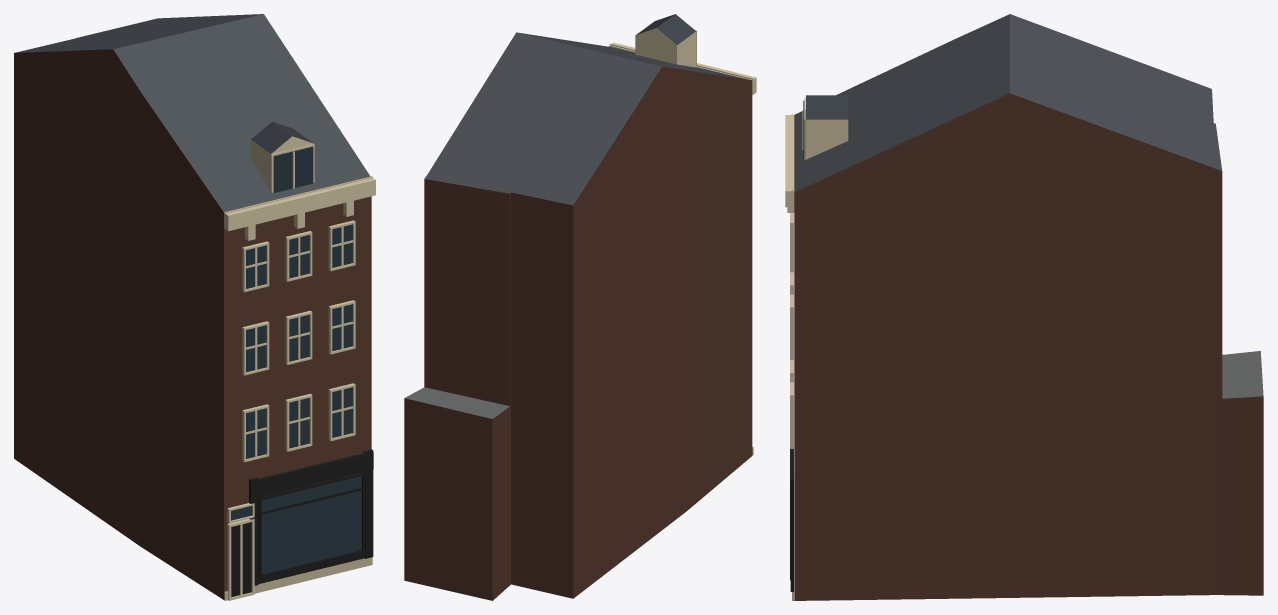
The model's file is recipe-bilder-154127.glb.
3 views of the same model, side by side, from view 1: azimuth 30°, elevation 25°; view 2: azimuth 150°, elevation 25°; view 3: azimuth 270°, elevation 25° (orthographic). The views are drawn at different scales.
Parts seen in each view (by area): view 1: bilder-154127; view 2: bilder-154127; view 3: bilder-154127.
Boxes of the visible parts, bbox=[...] form: bilder-154127: bbox=[14, 14, 375, 600]; bilder-154127: bbox=[404, 14, 756, 600]; bilder-154127: bbox=[785, 14, 1263, 600].
Bounding box in the file's own units: 5.99 × 17.09 × 14.63.
